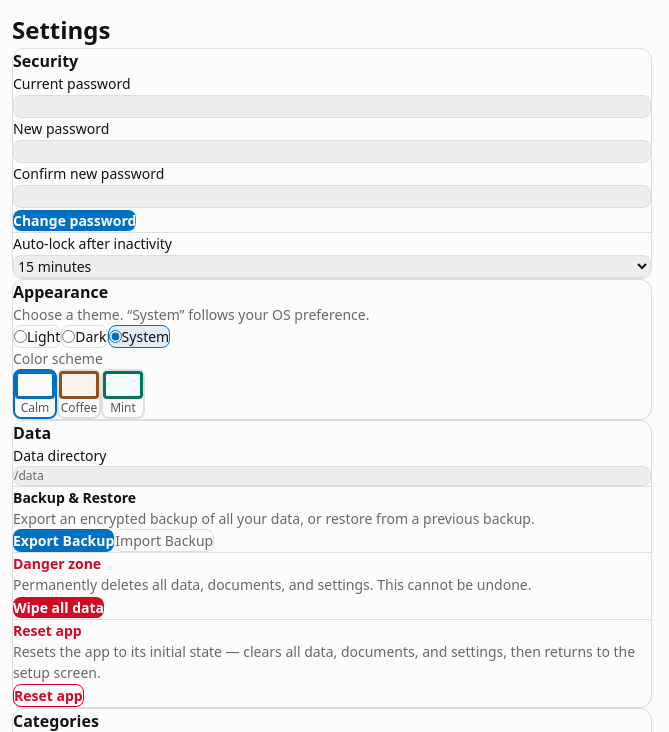
Test: SettingsPage › shows error when new passwords do not match
Type "oldpass123" into the password field labelled "Current password".
click(332, 106); type("oldpass123")  # box [13,95,651,118]
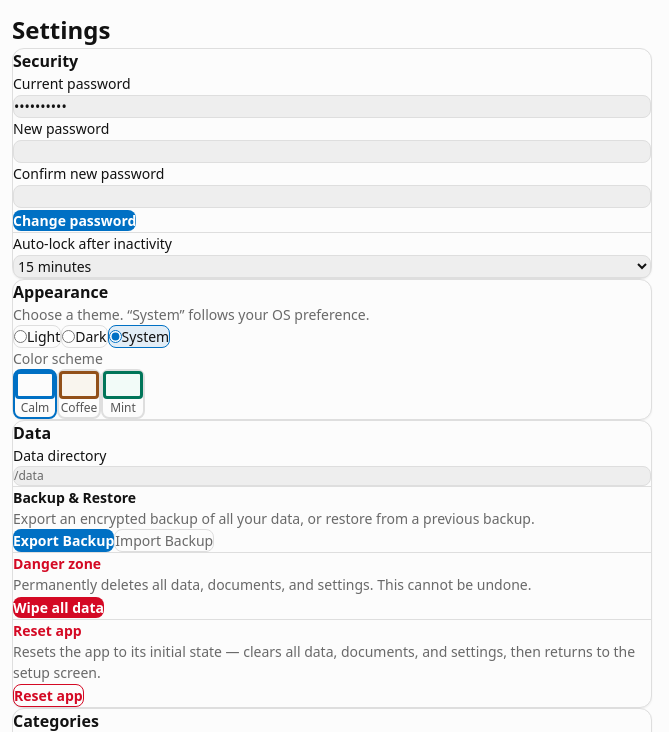
Type "newpass123" into the password field labelled "New password".
click(332, 152); type("newpass123")  # box [13,140,651,163]
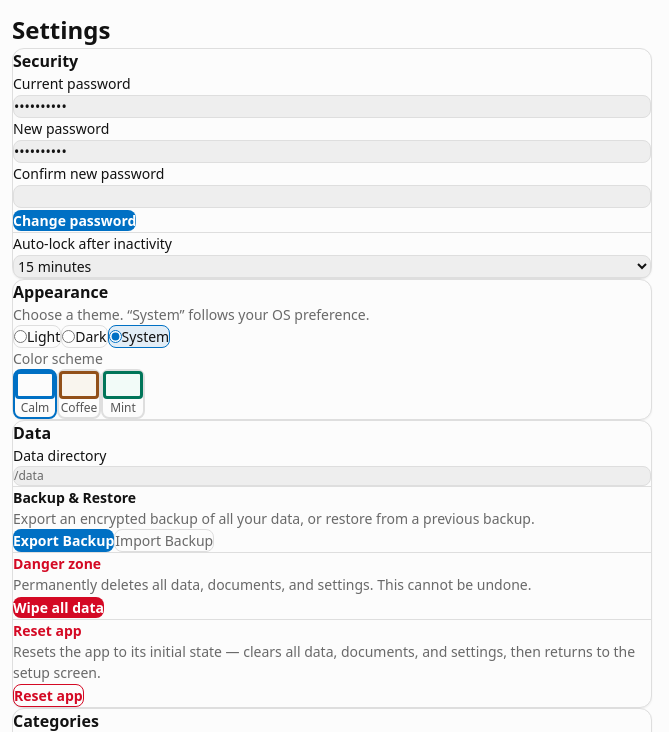
Type "different456" into the password field labelled "Confirm new password".
click(332, 196); type("different456")  # box [13,185,651,208]
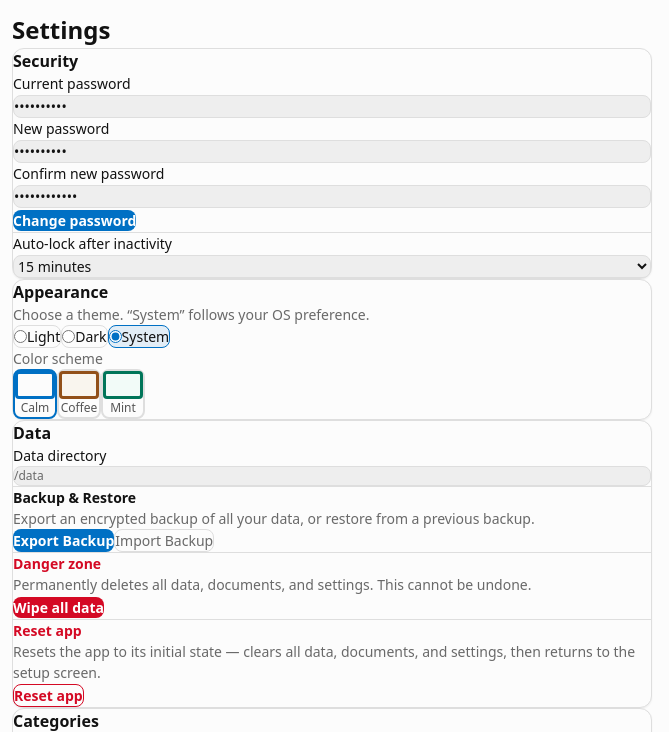
Click the button "Change password".
click(75, 220)  # box [13,210,136,231]
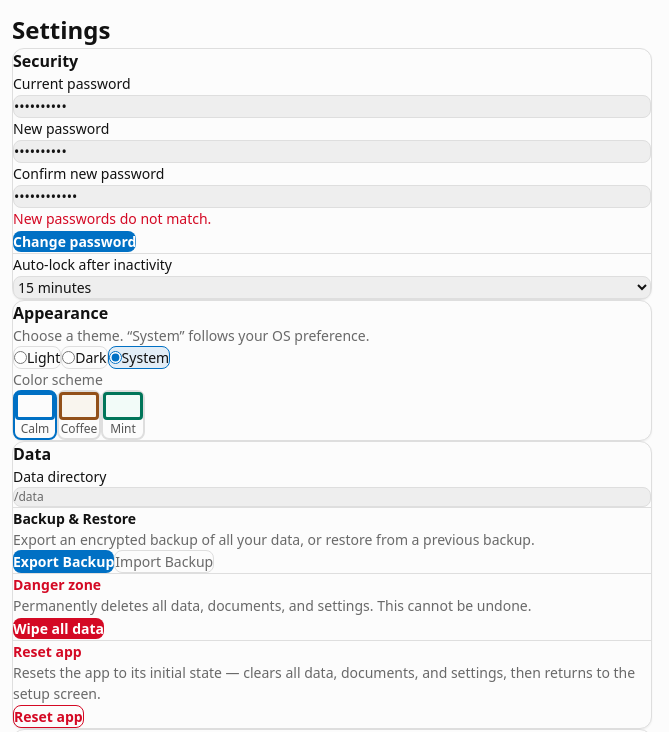
Now the text "New passwords do not match." is shown, box [13,209,211,228]
